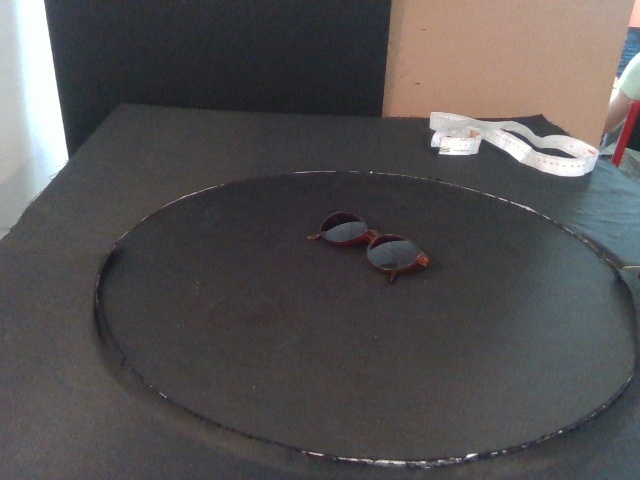glasses: (307, 209, 429, 282)
